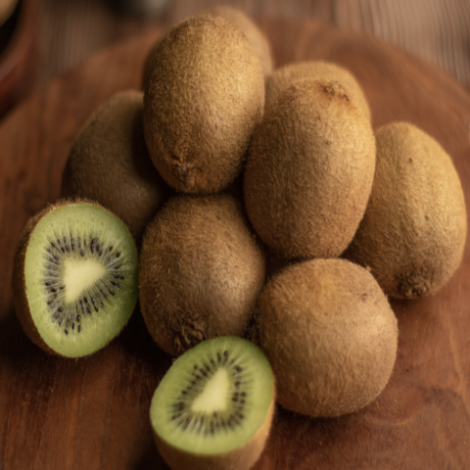kiwi: (234, 257, 412, 413), (228, 72, 380, 254), (121, 189, 269, 365), (130, 5, 267, 188), (348, 119, 469, 318)
